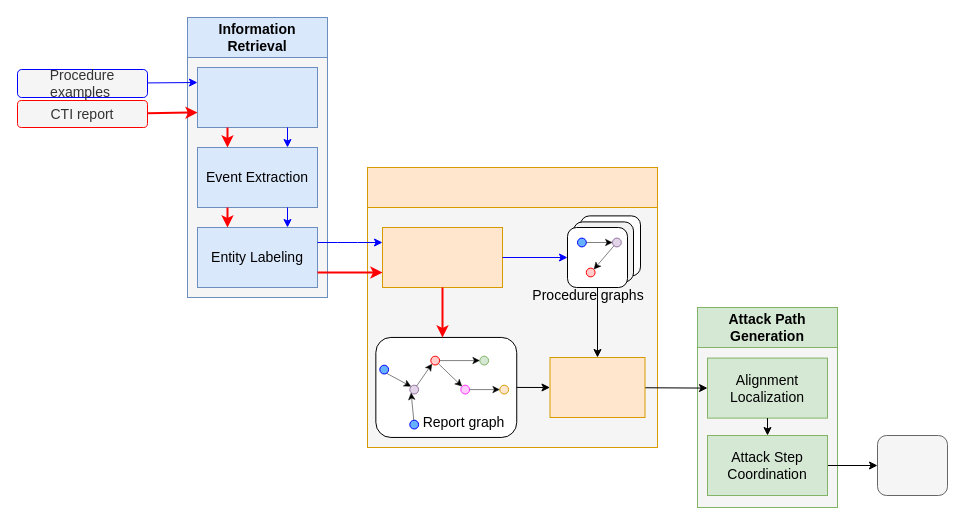
This 965x525 diagram has some shape labels left out. The centre of each missing label's shape, as x and y in pixels:
Attack Path: the point at 912,465
Graph Alignment: the point at 597,387
Graph Building: the point at 442,257
Information Linking: the point at 512,187
Text Normalization: the point at 257,97
